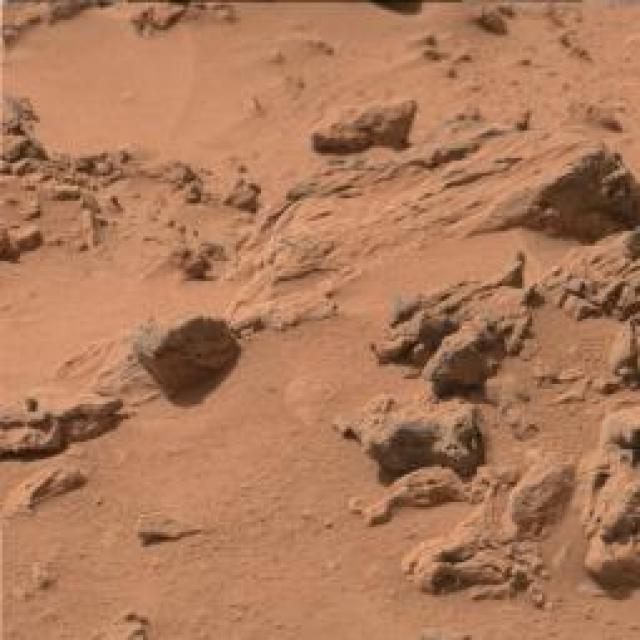rock: (228, 118, 640, 322), (372, 252, 544, 366), (393, 522, 558, 602), (580, 404, 640, 584), (0, 388, 130, 460), (537, 233, 640, 320), (363, 406, 499, 471), (0, 85, 48, 266), (132, 314, 235, 394), (362, 466, 468, 527), (424, 320, 512, 390), (512, 454, 579, 542), (312, 95, 418, 150), (569, 319, 640, 396), (0, 463, 91, 512), (50, 390, 124, 440), (333, 395, 394, 441)
